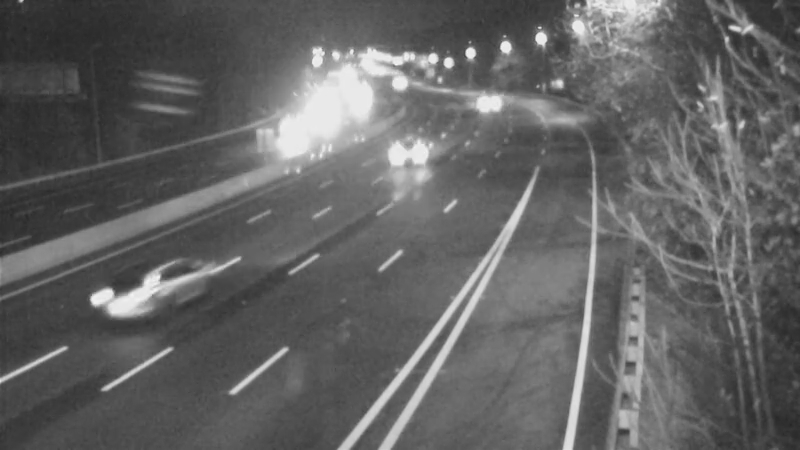vehicle: (359, 117, 439, 197), (93, 251, 173, 331), (374, 59, 424, 109), (460, 77, 510, 127), (270, 111, 320, 161)
